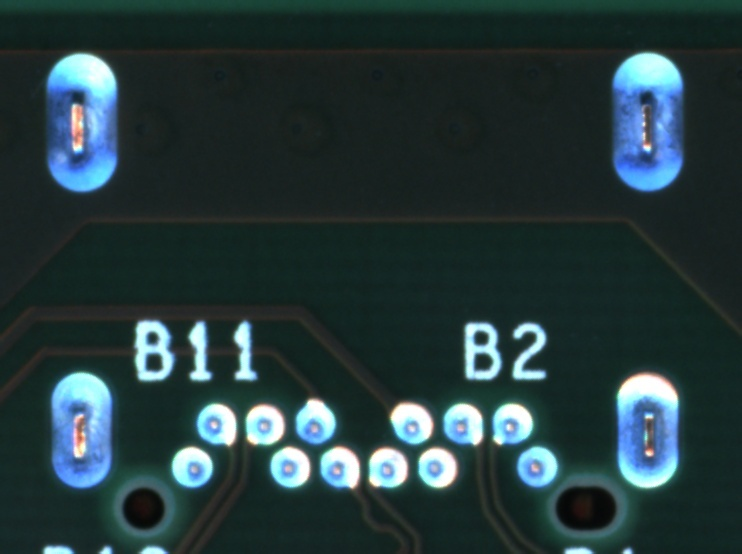SOLDER: (292, 398, 337, 446), (241, 400, 286, 448), (194, 400, 239, 448), (389, 399, 434, 447), (440, 400, 485, 448), (490, 400, 535, 448), (169, 442, 214, 490), (267, 443, 312, 491), (317, 443, 362, 491), (365, 443, 410, 491), (414, 444, 459, 492), (514, 443, 559, 491)
SOLDER2: (604, 43, 693, 199), (601, 346, 690, 502), (36, 48, 125, 204), (38, 352, 126, 508)
